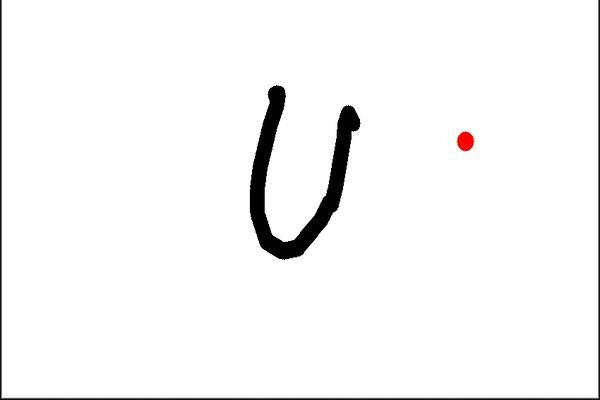U: (248, 79, 373, 264)
